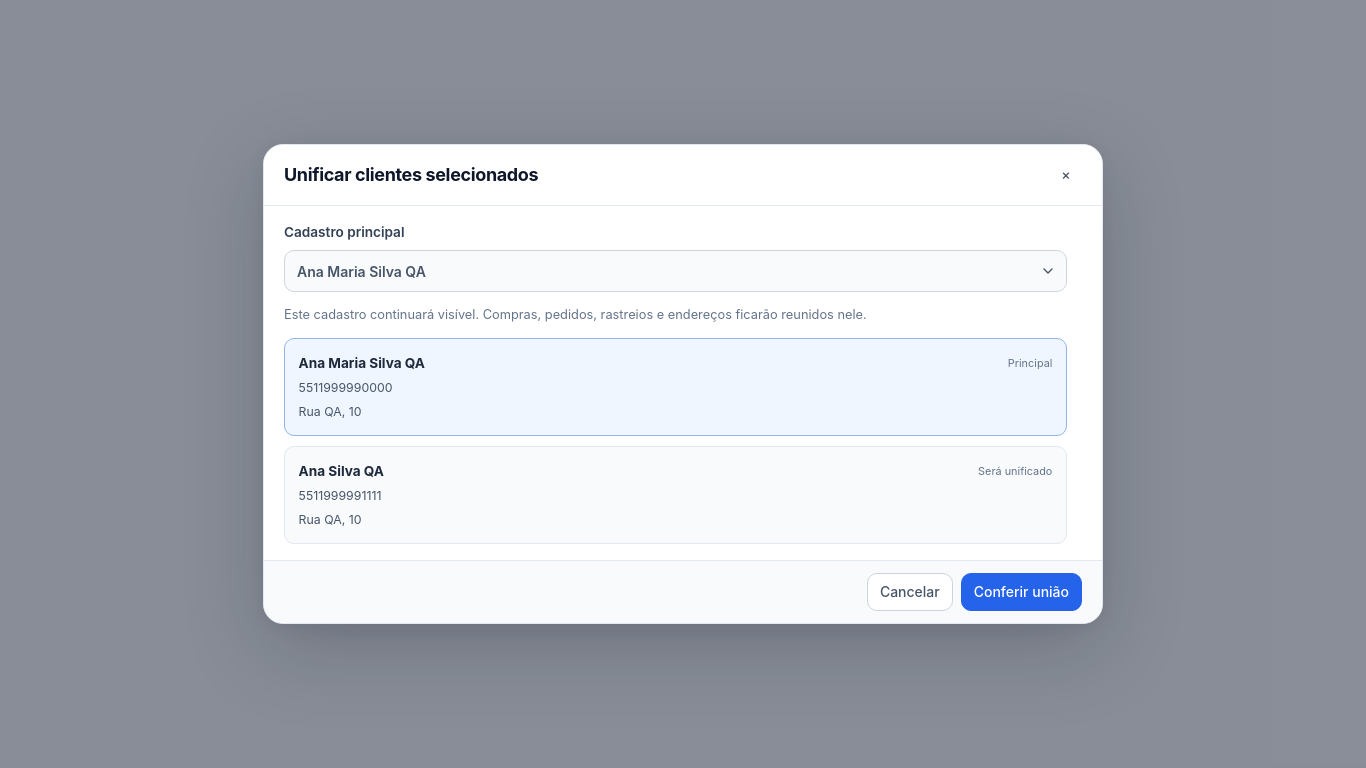
Test case: Selected customer merge review › uses the custom dropdown and invalidates the old plan when changing the principal
This screenshot has width=1366, height=768.
Click the button "Conferir união". click: (1021, 592)
box: [961,573,1082,611]
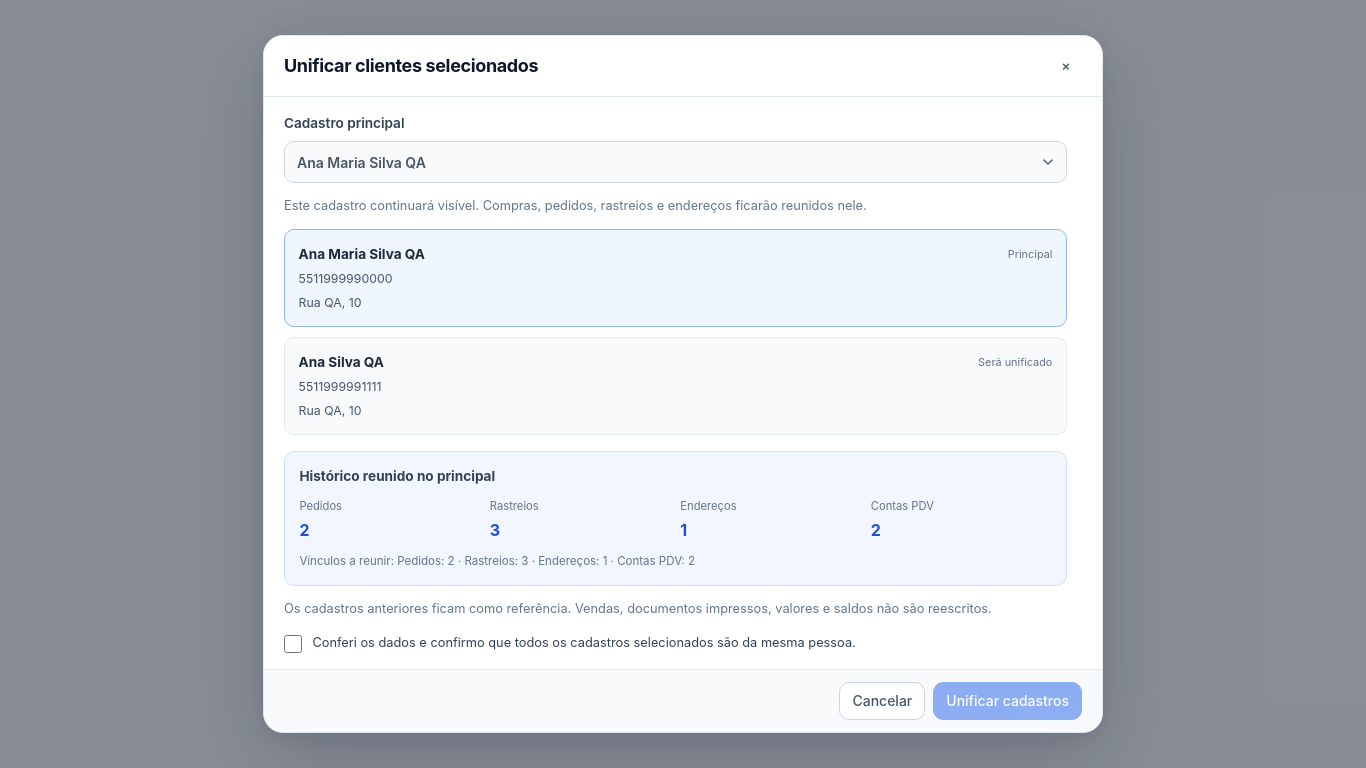
Click the checkbox. click: (293, 644)
box: [284,635,302,653]
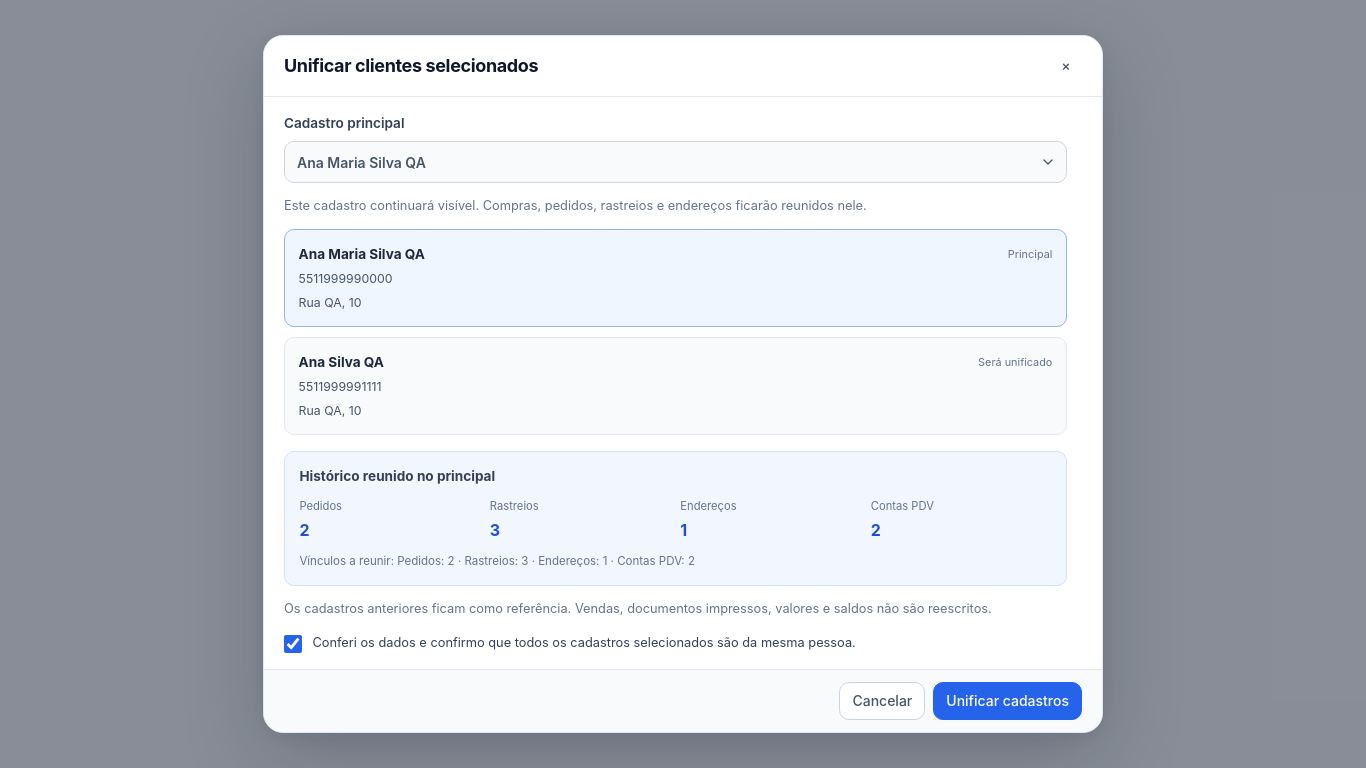
Click the button "Ana Maria Silva QA". click: (361, 162)
box: [285,142,1066,182]
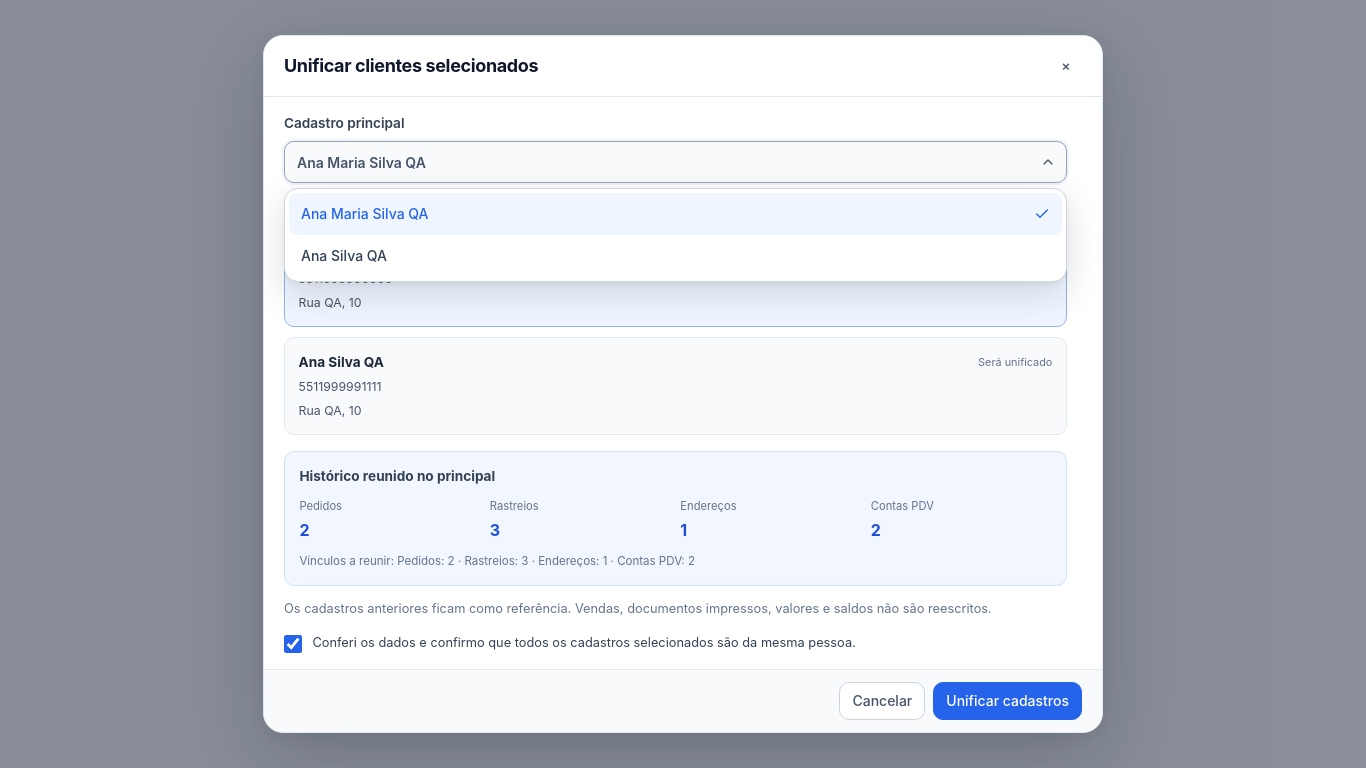
Click the option "Ana Silva QA". click: (344, 255)
box: [289,235,1062,277]
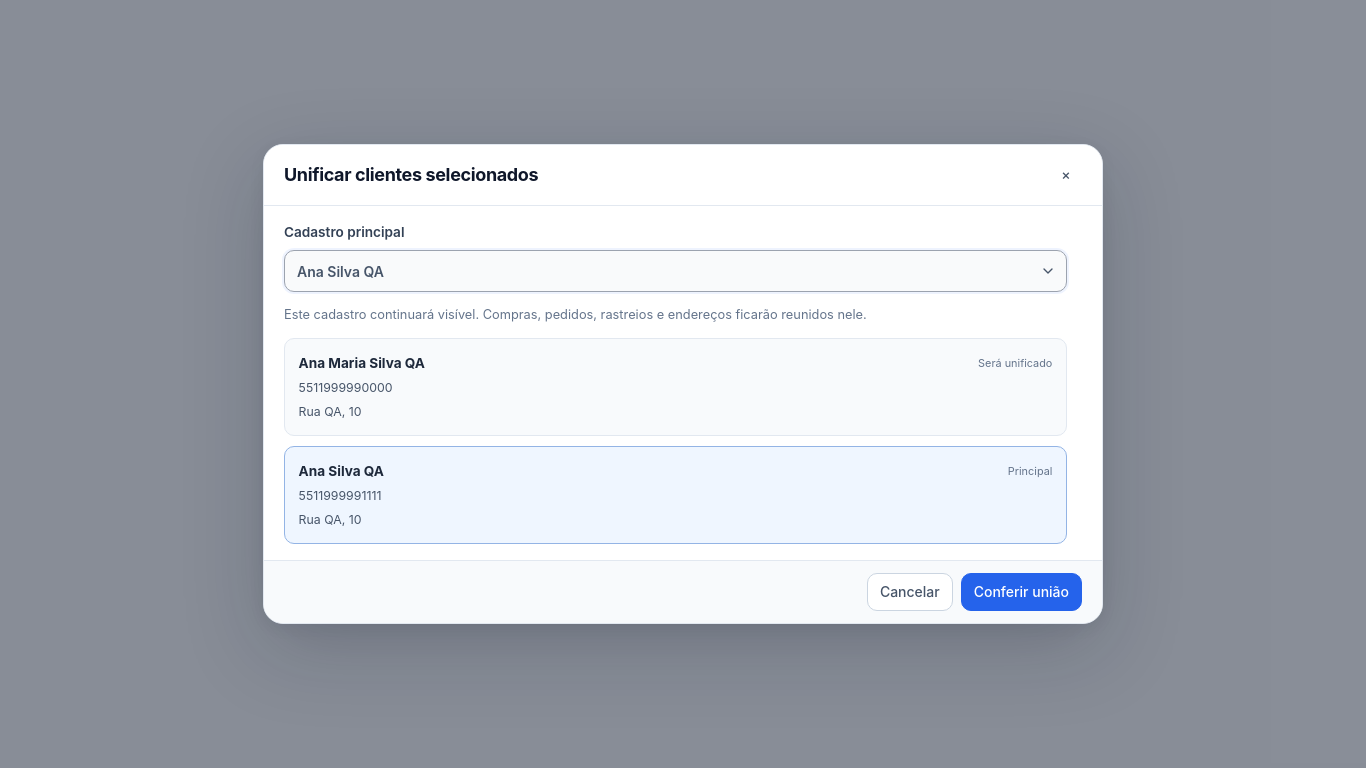
Click the button "Conferir união". click: (1021, 592)
box: [961,573,1082,611]
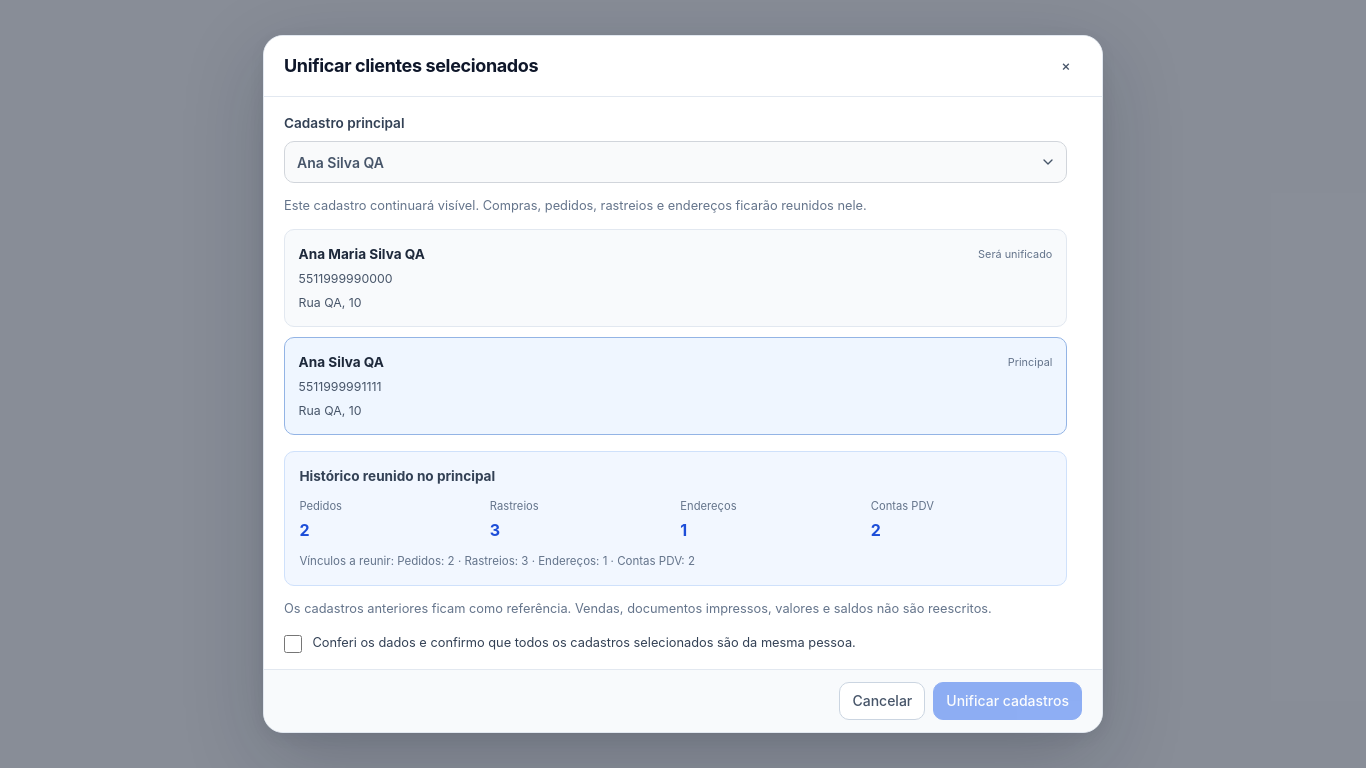
Now the button "Unificar cadastros" is disabled, box [933,682,1082,720]
